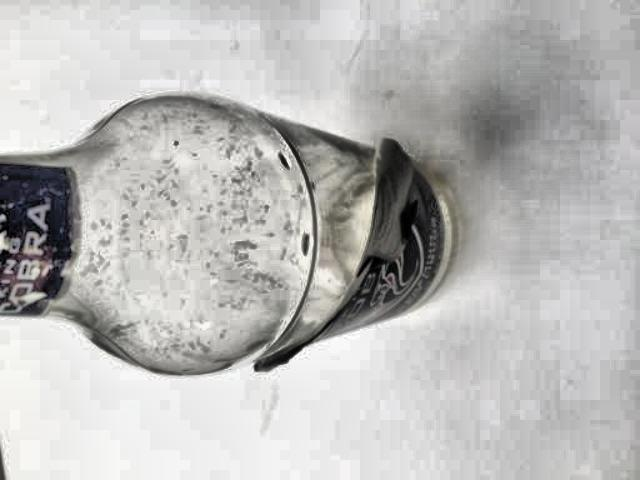Bottles: (6, 77, 472, 389)
